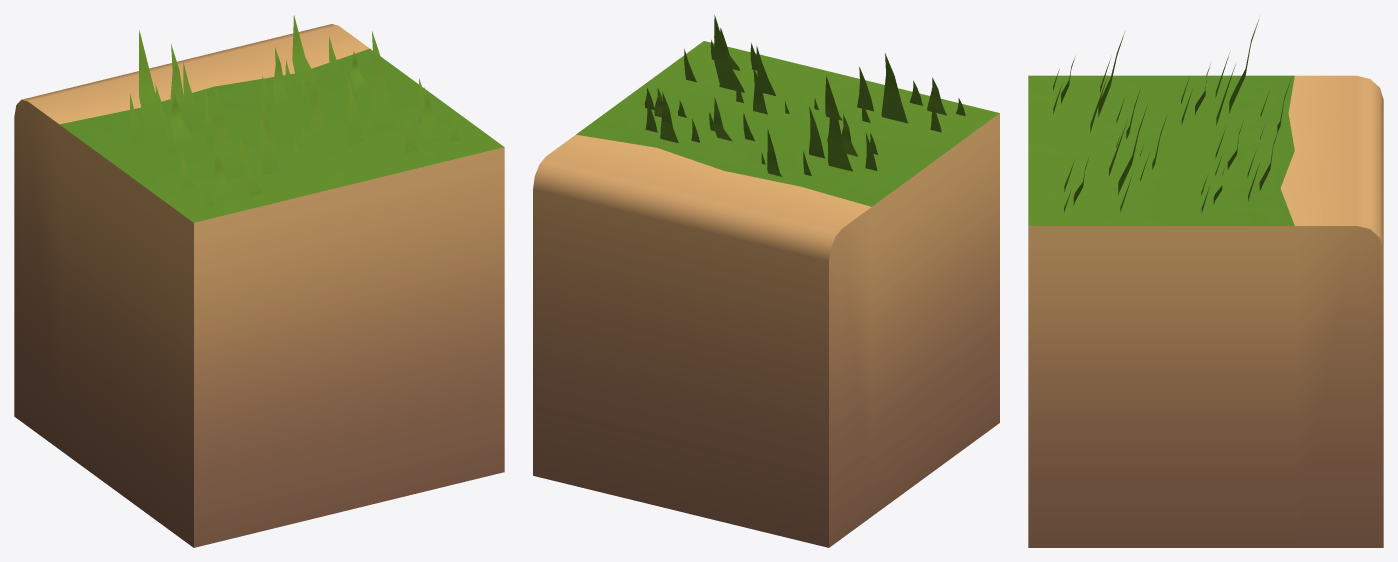
Rendered from up l tile.fbx.
The picture shows the model from 3 angles, left to right: view 1: azimuth 30°, elevation 25°; view 2: azimuth 150°, elevation 25°; view 3: azimuth 270°, elevation 25°; orthographic projection. The views are drawn at different scales.
Parts seen in each view (by area): view 1: u_l_tile, u_l_grass; view 2: u_l_tile, u_l_grass; view 3: u_l_tile, u_l_grass.
Boxes of the visible parts, bbox=[...] form: u_l_tile: bbox=[14, 24, 504, 547]; u_l_grass: bbox=[130, 15, 459, 207]; u_l_tile: bbox=[533, 41, 999, 547]; u_l_grass: bbox=[644, 15, 965, 176]; u_l_tile: bbox=[1028, 75, 1383, 547]; u_l_grass: bbox=[1053, 19, 1290, 212].
Bounding box in the file's own units: 10 × 12.86 × 10.
